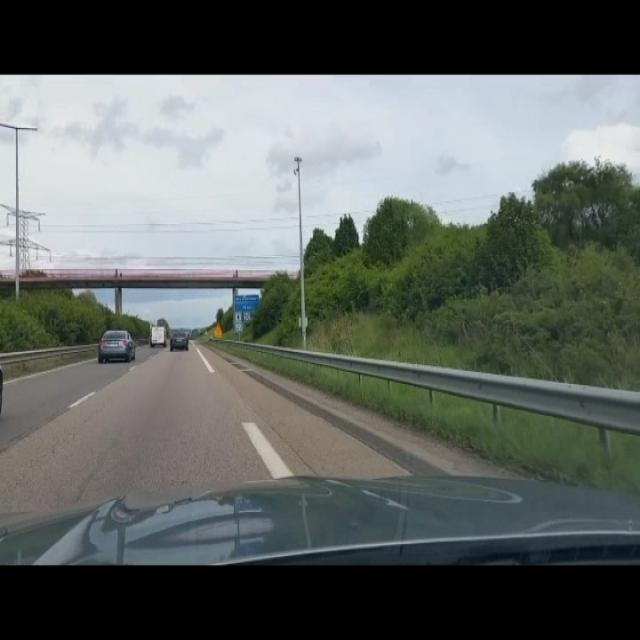indication: (234, 294, 259, 310)
